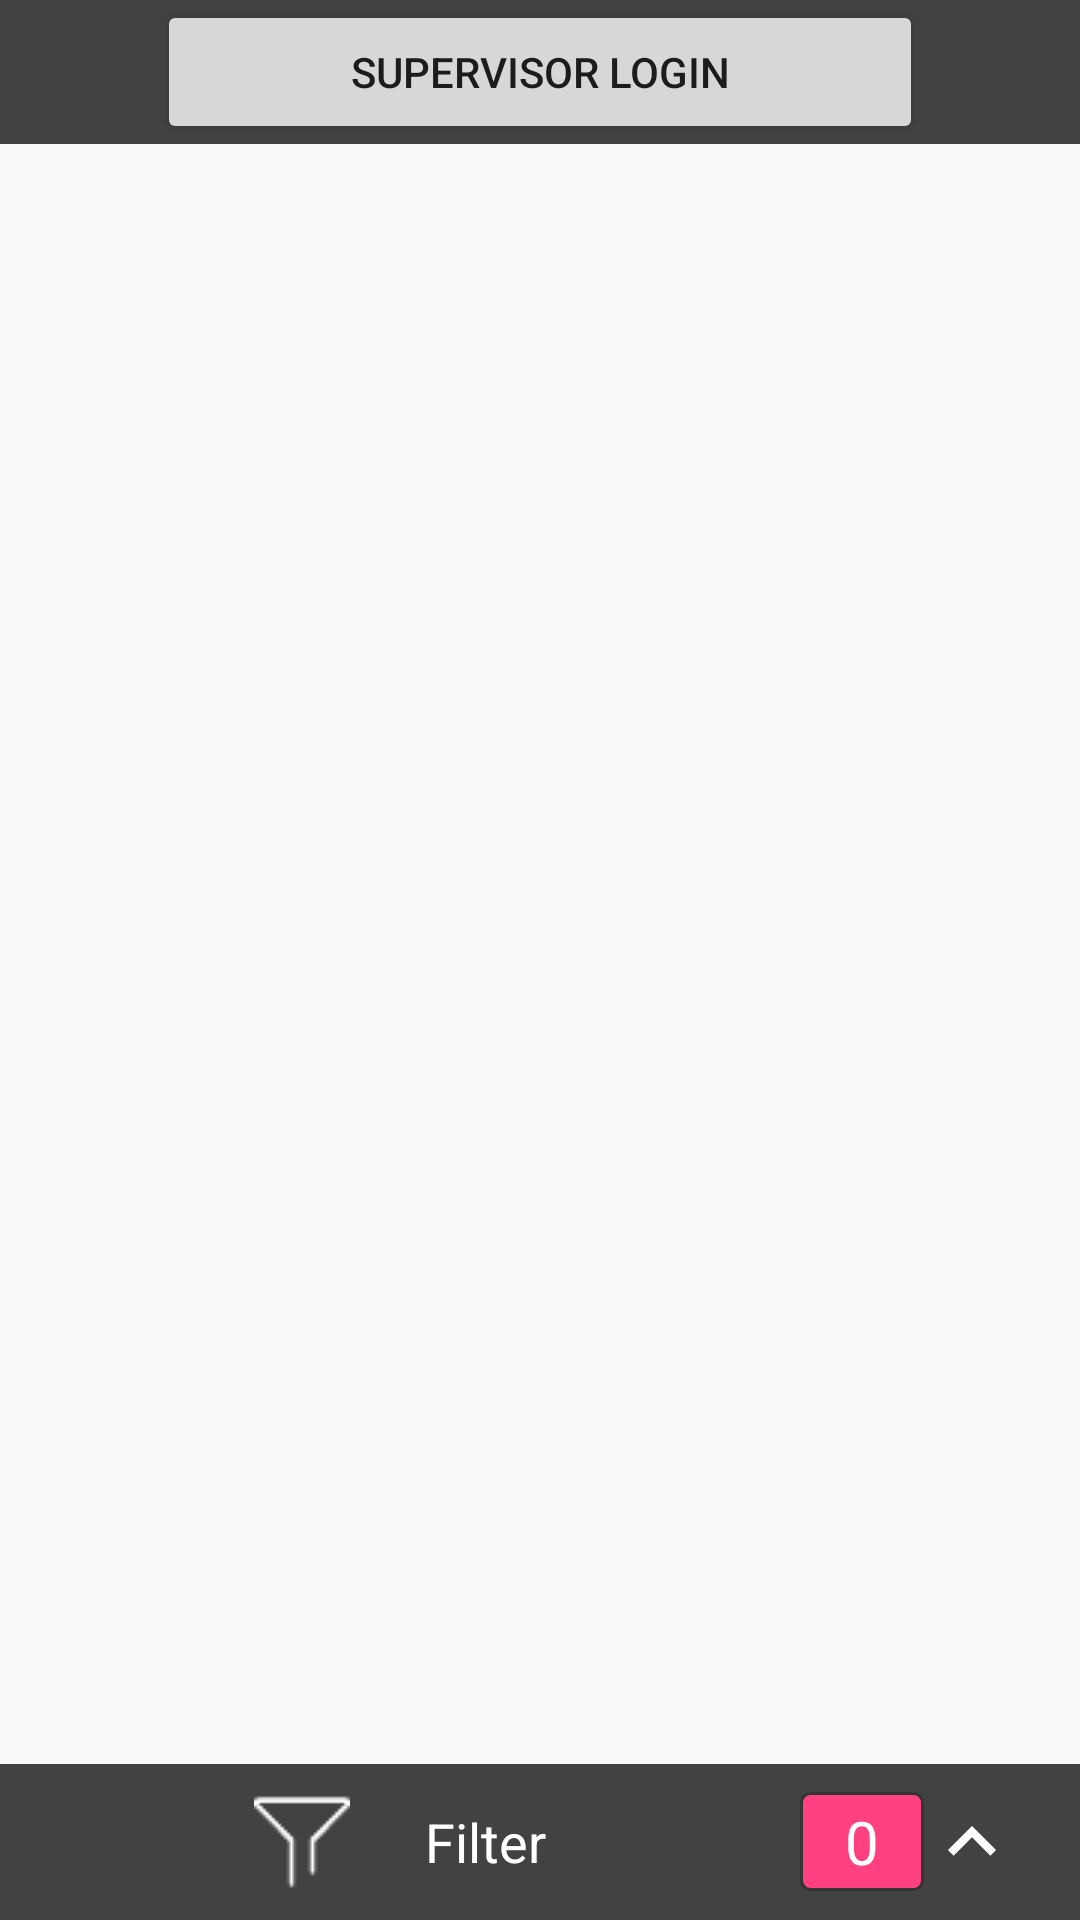

Screen size 1080x1920. Icon name, then its box in pixels as rect(x1, y1, x2, y2):
keyboard arrow up: rect(948, 1826, 996, 1856)
